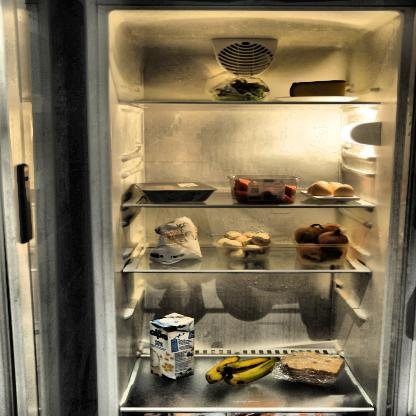banana: (206, 354, 281, 385)
cheese: (287, 79, 350, 102)
chicken: (138, 178, 216, 203)
eggs: (310, 179, 360, 202)
green_beans: (208, 77, 275, 102)
milk: (149, 314, 197, 383)
mushrooms: (213, 232, 274, 259)
onion: (295, 222, 350, 263)
strawberries: (231, 176, 298, 206)
